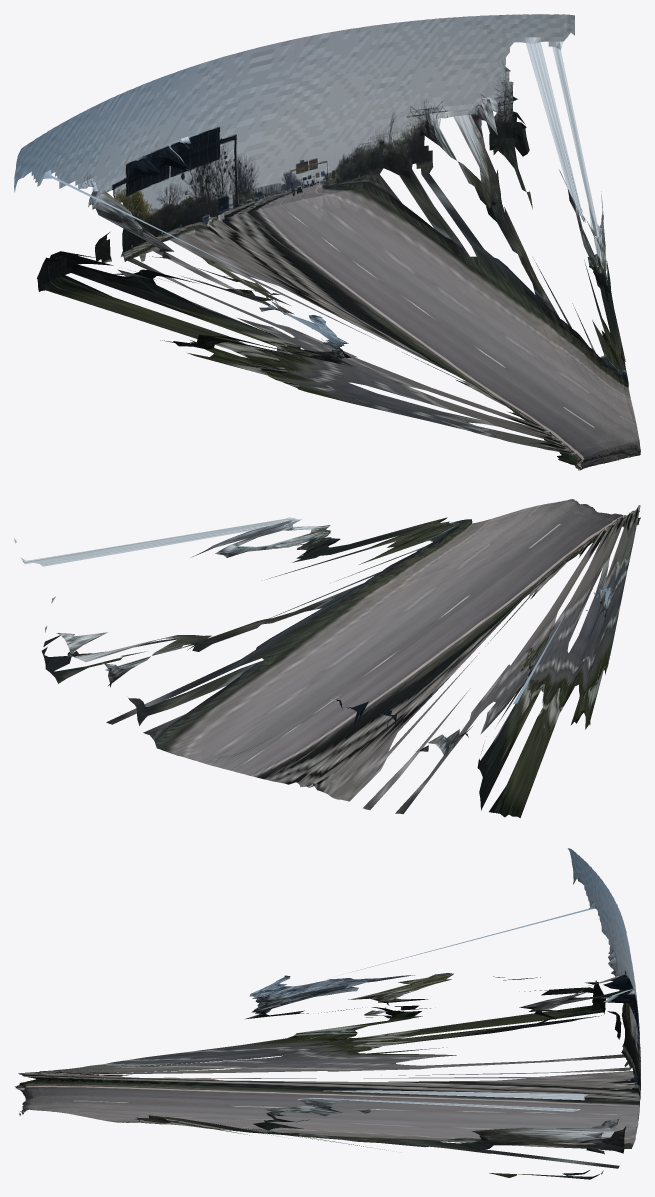
The picture shows the model from 3 angles, top to bottom: view 1: azimuth 30°, elevation 25°; view 2: azimuth 150°, elevation 25°; view 3: azimuth 270°, elevation 25°; orthographic projection. The views are drawn at different scales.
Parts seen in each view (by area): view 1: defaultobject; view 2: defaultobject; view 3: defaultobject.
Part boxes in pixels (<box>): defaultobject: <box>14,14,640,470</box>; defaultobject: <box>14,499,640,817</box>; defaultobject: <box>14,848,640,1179</box>.
Bounding box in the file's own units: 40.75 × 12.78 × 44.85.
1 material, 1 textured.
